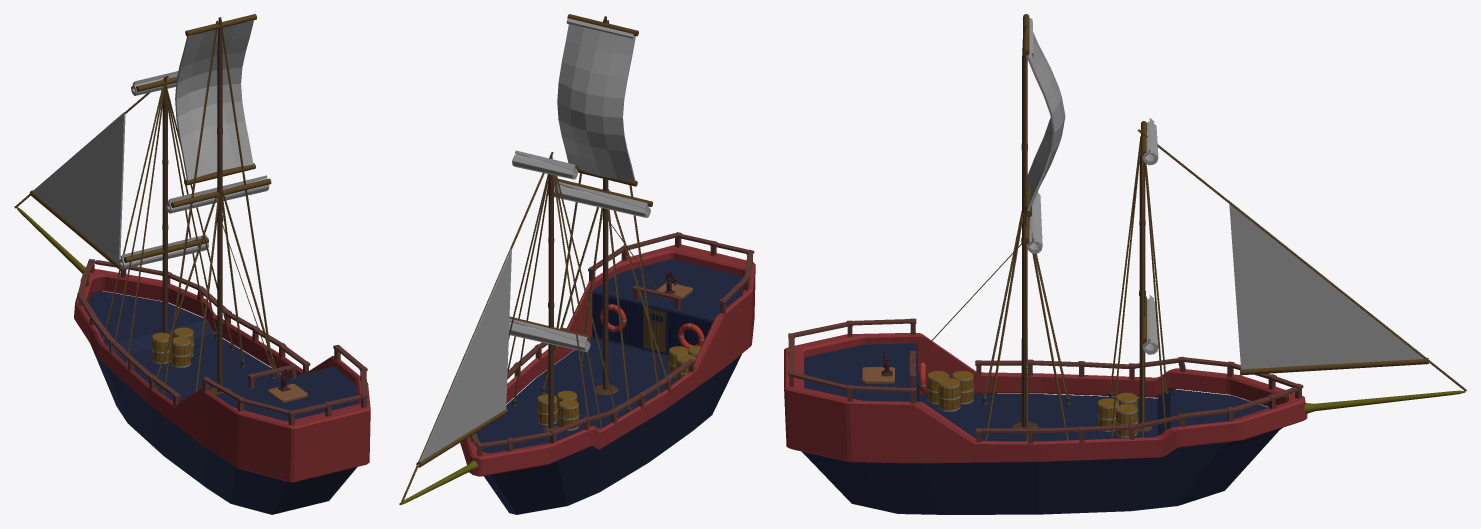
Rendered from Ship3.fbx.
3 renders of one model, left to right at view 1: azimuth 30°, elevation 25°; view 2: azimuth 150°, elevation 25°; view 3: azimuth 270°, elevation 25°, orthographic. The views are drawn at different scales.
Visible parts, largest first — view 1: Ship; view 2: Ship; view 3: Ship.
Boxes of the visible parts, <box> form: Ship: <box>14,14,370,514</box>; Ship: <box>399,14,755,514</box>; Ship: <box>784,14,1466,514</box>.
Size of the model in its own units: 475 by 1433 by 1913.
